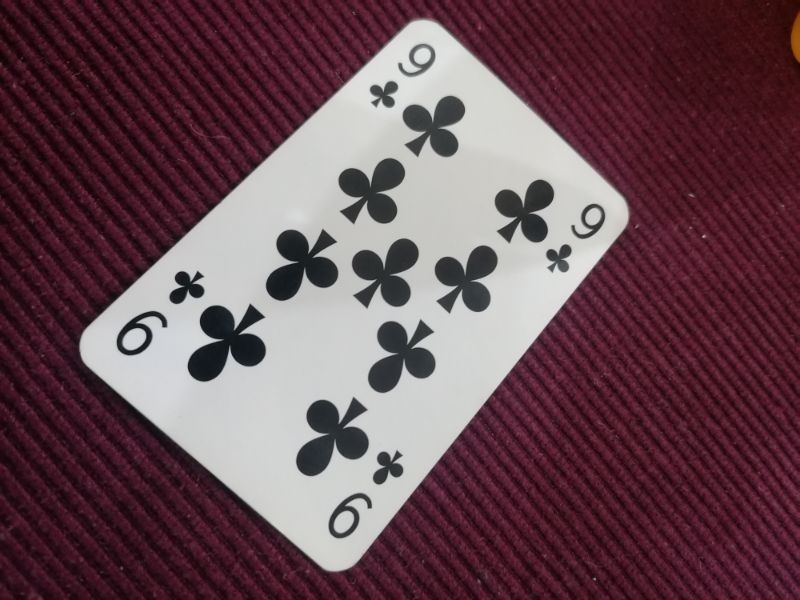9c: (114, 266, 209, 359), (324, 445, 411, 542), (367, 37, 443, 110), (543, 202, 610, 277)
